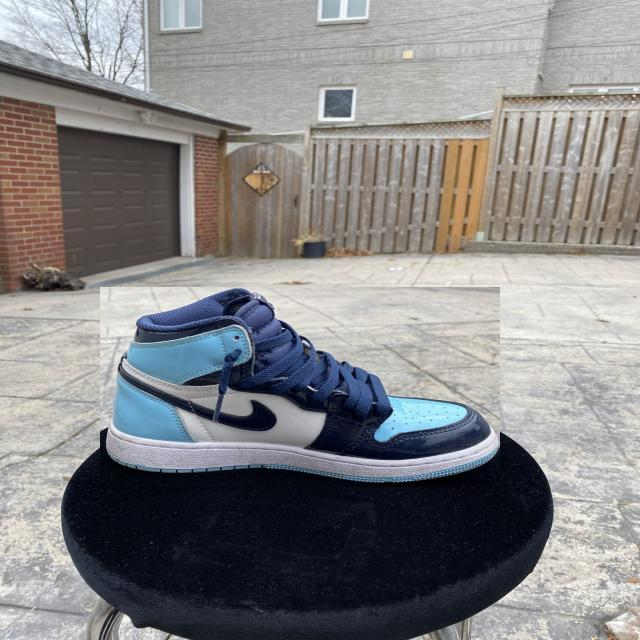shoes: (100, 287, 500, 487)
